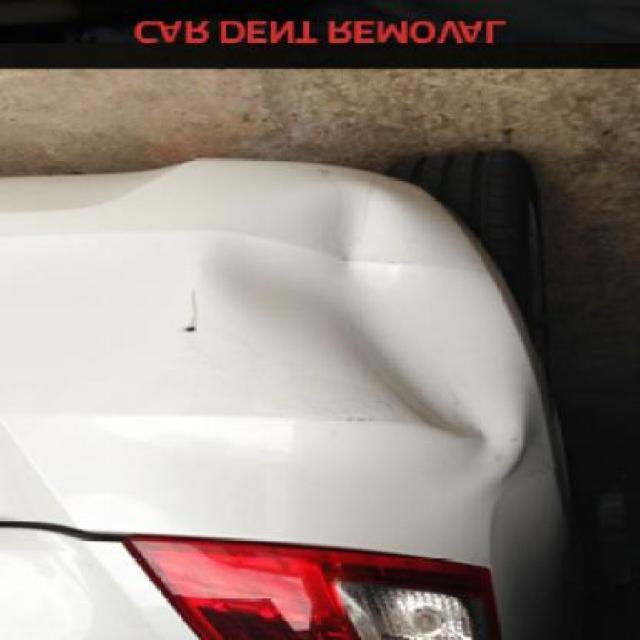dent: (107, 182, 520, 455)
